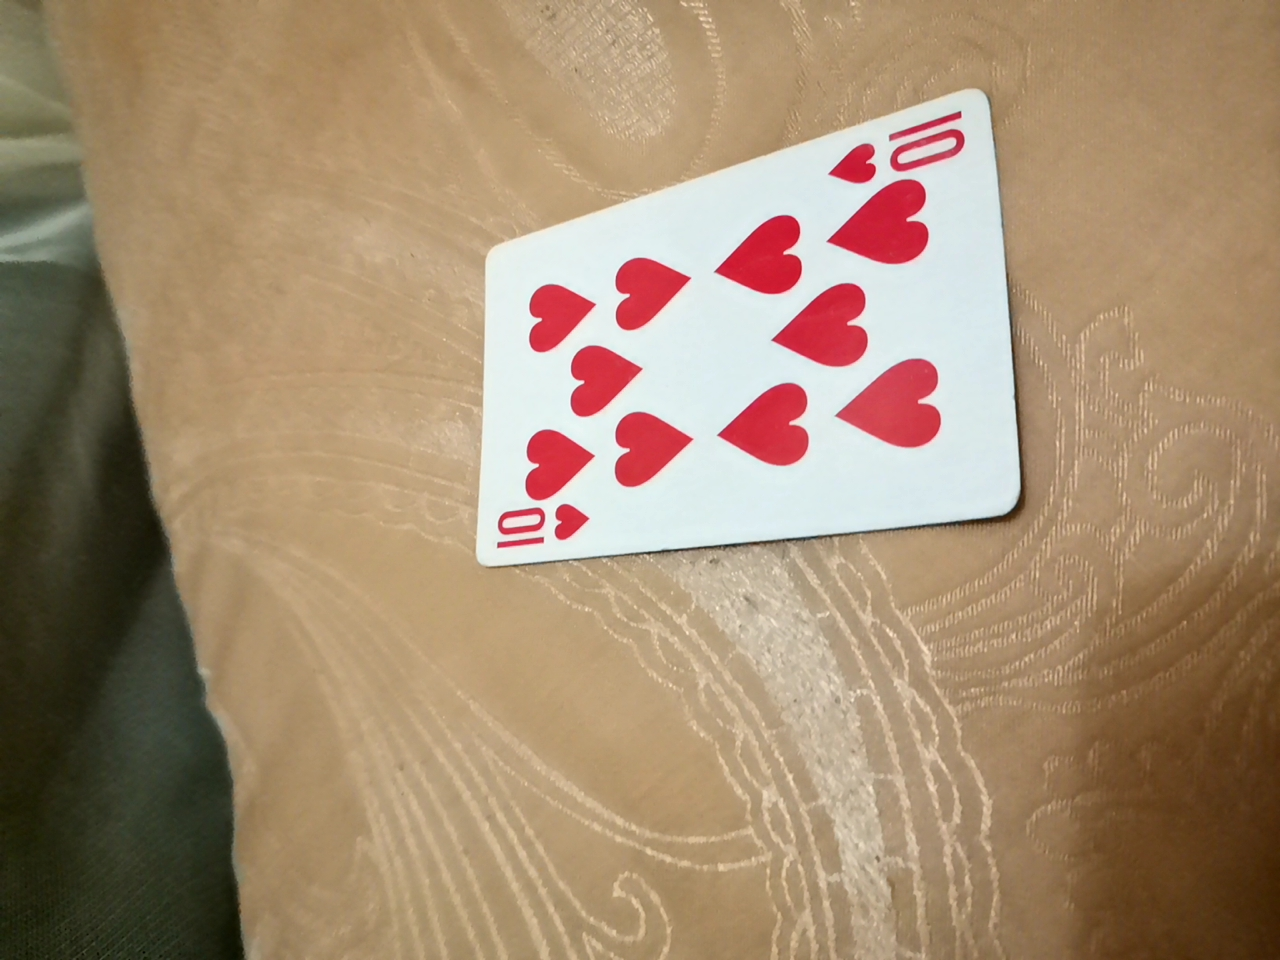hx 10: (476, 119, 1013, 569)
